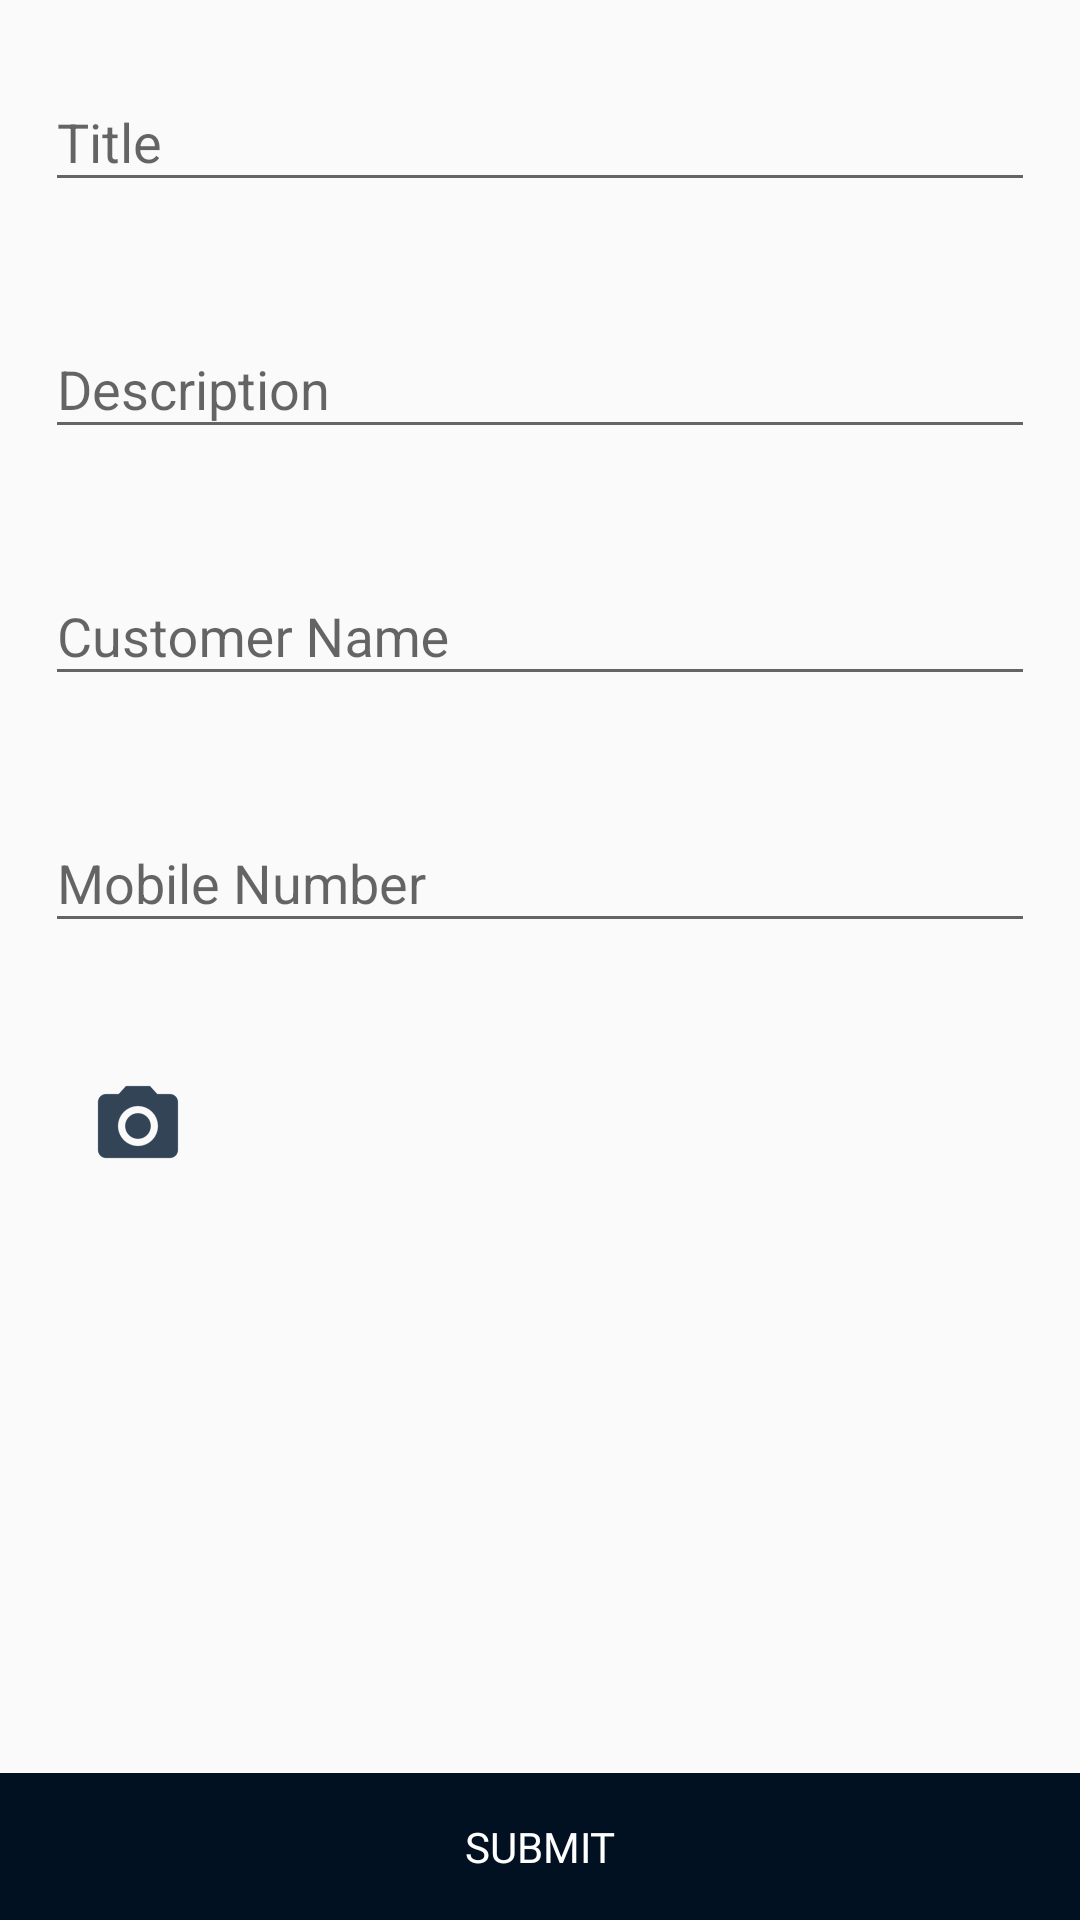

Where icons sit on this 1080w x 1920h app screen, as (x1, y1, x2, y2):
camera: (98, 1086, 178, 1158)
